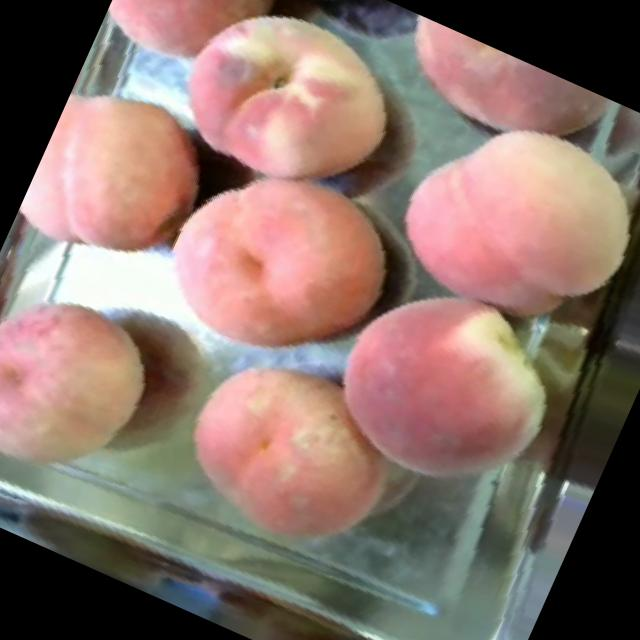Fruit: (132, 114, 430, 404), (359, 70, 640, 366), (301, 250, 588, 524), (151, 325, 426, 584), (139, 0, 442, 234), (12, 58, 235, 297), (361, 5, 624, 192), (0, 255, 183, 513), (91, 0, 308, 113), (214, 0, 410, 50)
